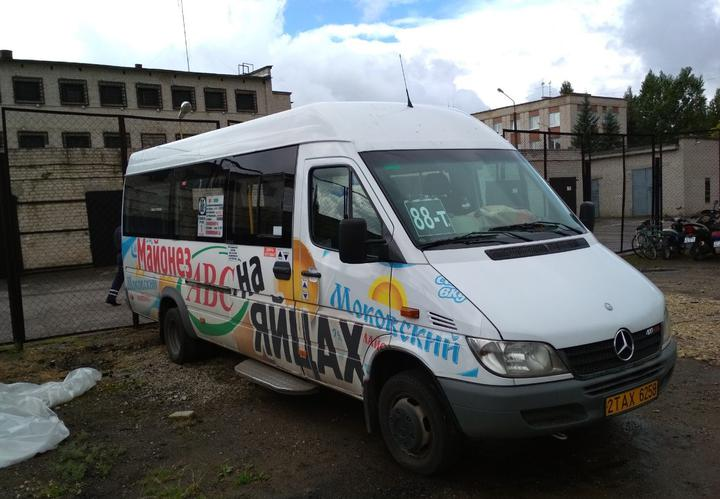van: (125, 102, 677, 470)
